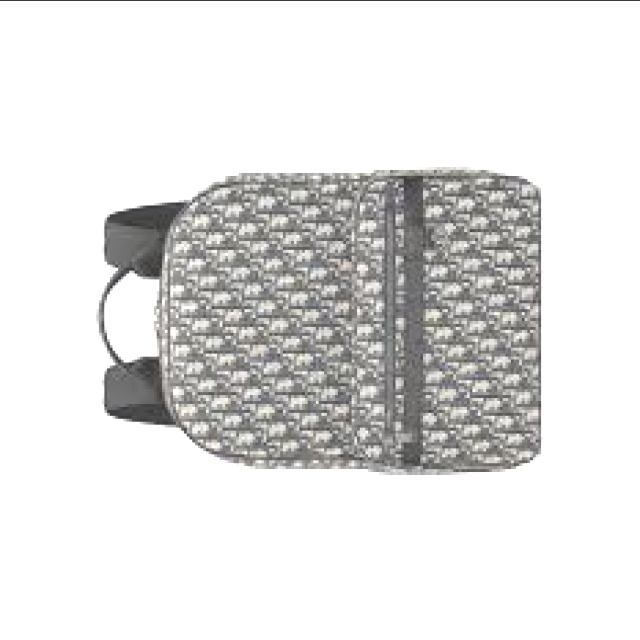backpack: (95, 170, 543, 478)
